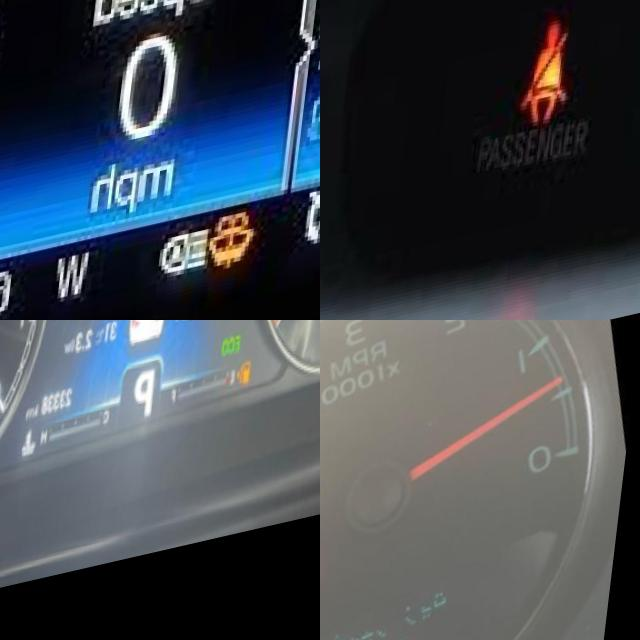Seat Belt: (529, 32, 586, 142)
Washer Fluid: (216, 229, 274, 289)
